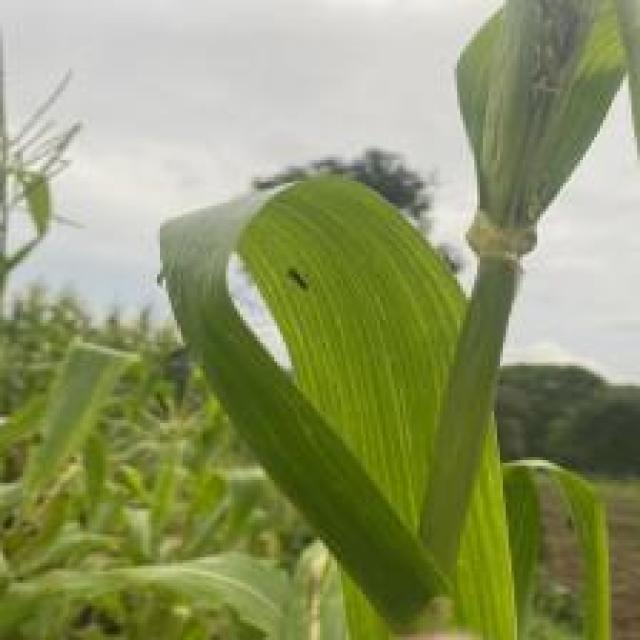Plaga: (273, 250, 336, 321)
